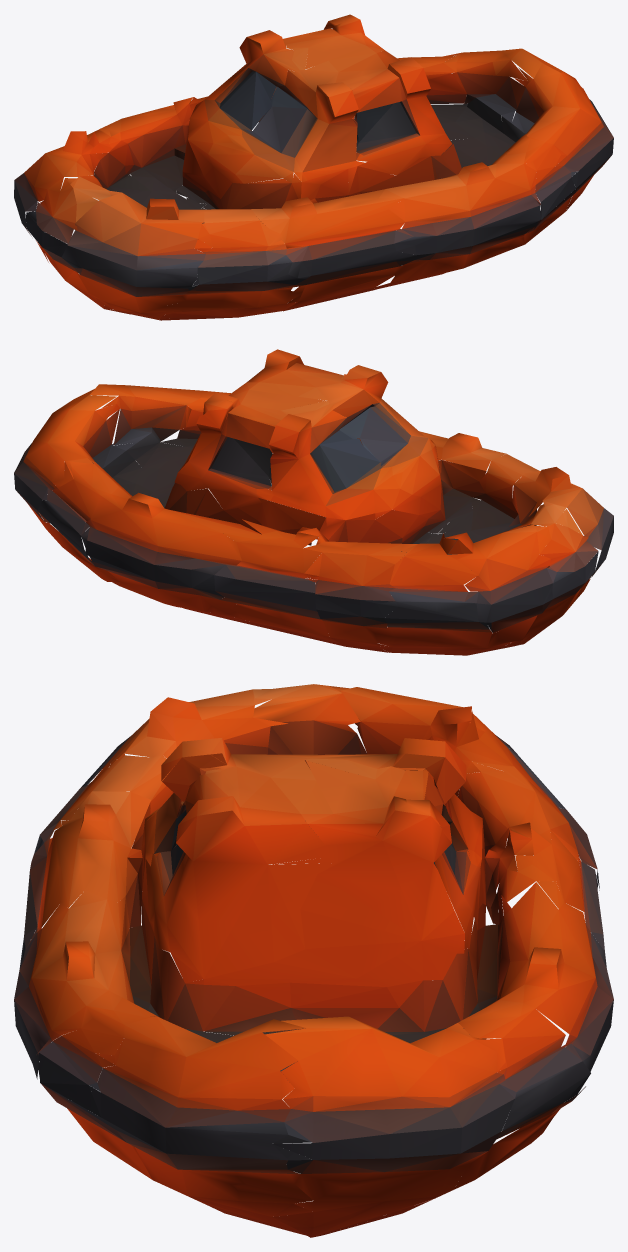
The model's file is building-rescueLaunch.glb.
The picture shows the model from 3 angles, top to bottom: view 1: azimuth 30°, elevation 25°; view 2: azimuth 150°, elevation 25°; view 3: azimuth 270°, elevation 25°; orthographic projection. The views are drawn at different scales.
Visible parts, largest first — view 1: 0_rescueLaunch; view 2: 0_rescueLaunch; view 3: 0_rescueLaunch.
Boxes of the visible parts, x1=… form: 0_rescueLaunch: x1=14, y1=14, x2=613, y2=320; 0_rescueLaunch: x1=14, y1=349, x2=613, y2=655; 0_rescueLaunch: x1=14, y1=684, x2=613, y2=1237.
Size of the model in its own units: 4.45 by 1.7 by 2.65.
